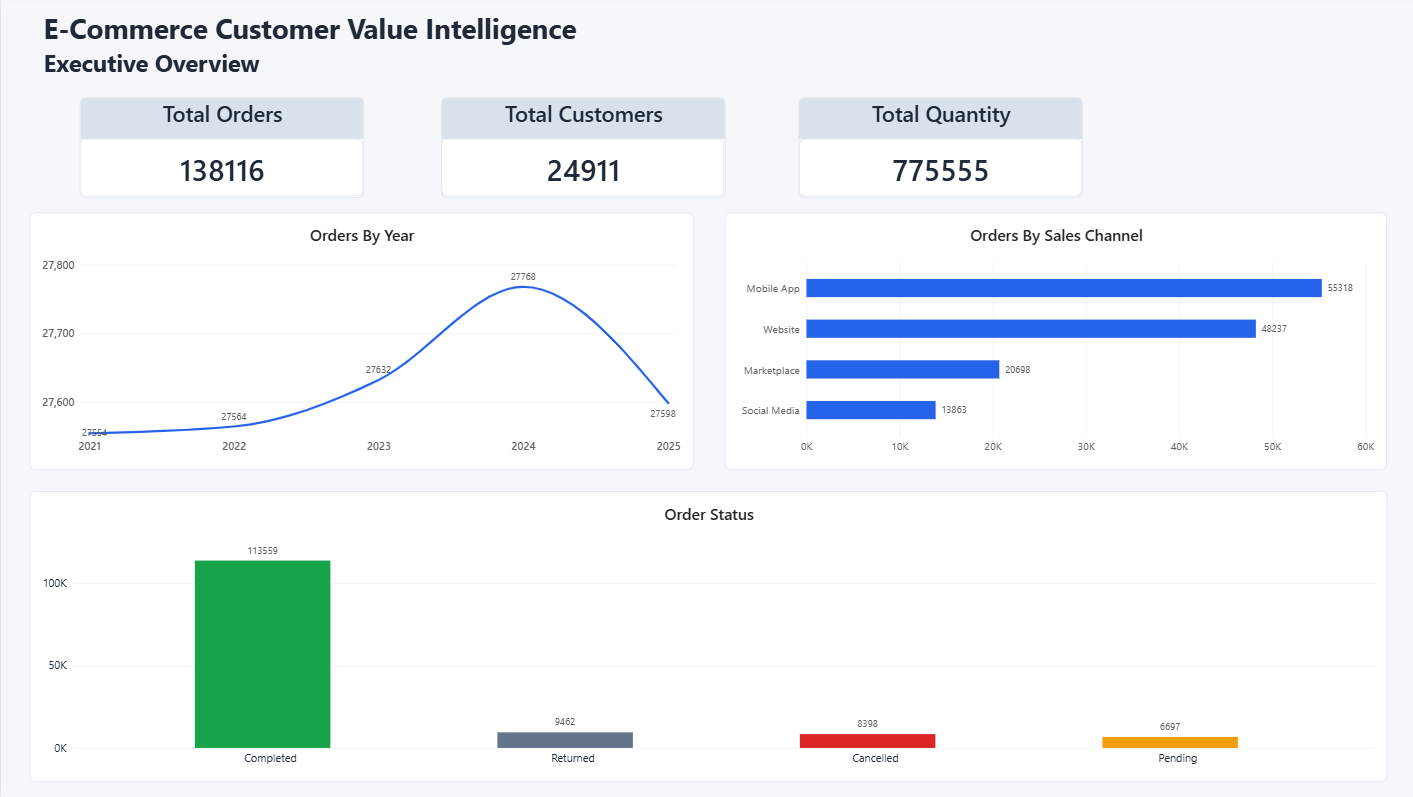

Layout of this report page (visuals, bound fields, positions):
{"tool":"powerbi","page":{"name":"Executive_Overview","canvas":[1920,1080],"ordinal":0},"visuals":[{"type":"cardVisual","title":"Total Orders","fields":{"Data":["Count(ecommerce_customer_value_intelligence sales.order_id)"]},"box":[107.1,132.1,385.7,135.7],"z":0},{"type":"cardVisual","title":"Total Customers","fields":{"Data":["Count(ecommerce_customer_value_intelligence sales.customer_id)"]},"box":[596.4,132.1,385.7,135.7],"z":1000},{"type":"cardVisual","title":"Total Quantity","fields":{"Data":["Sum(ecommerce_customer_value_intelligence sales.quantity)"]},"box":[1082.1,132.1,385.7,135.7],"z":2000},{"type":"lineChart","title":"Orders By Year","fields":{"Category":["ecommerce_customer_value_intelligence sales.order_date.Variation.Date Hierarchy.Year"],"Y":["Count(ecommerce_customer_value_intelligence sales.order_id)"]},"box":[38.8,287.8,900,349],"z":3000},{"type":"clusteredBarChart","title":"Orders By Sales Channel","fields":{"Category":["ecommerce_customer_value_intelligence sales.sales_channel"],"Y":["Count(ecommerce_customer_value_intelligence sales.order_id)"]},"box":[981.6,287.8,898,349],"z":4000},{"type":"clusteredColumnChart","title":"Order Status","fields":{"Category":["ecommerce_customer_value_intelligence sales.order_status"],"Y":["Count(ecommerce_customer_value_intelligence sales.order_id)"]},"box":[38.8,665.3,1840.8,393.9],"z":5000},{"type":"textbox","box":[57.1,14.3,925,96.4],"z":6000}]}

Visuals, with their boxes in screenshot pixels (x1, y1, x2, y2), scaled from the page's 1920x1080 canvas onto the 1413x797 screenshot:
"Total Orders" cardVisual: (left=79, top=97, right=363, bottom=198)
"Total Customers" cardVisual: (left=439, top=97, right=723, bottom=198)
"Total Quantity" cardVisual: (left=796, top=97, right=1080, bottom=198)
"Orders By Year" lineChart: (left=29, top=212, right=691, bottom=470)
"Orders By Sales Channel" clusteredBarChart: (left=722, top=212, right=1383, bottom=470)
"Order Status" clusteredColumnChart: (left=29, top=491, right=1383, bottom=782)
textbox: (left=42, top=11, right=723, bottom=82)
